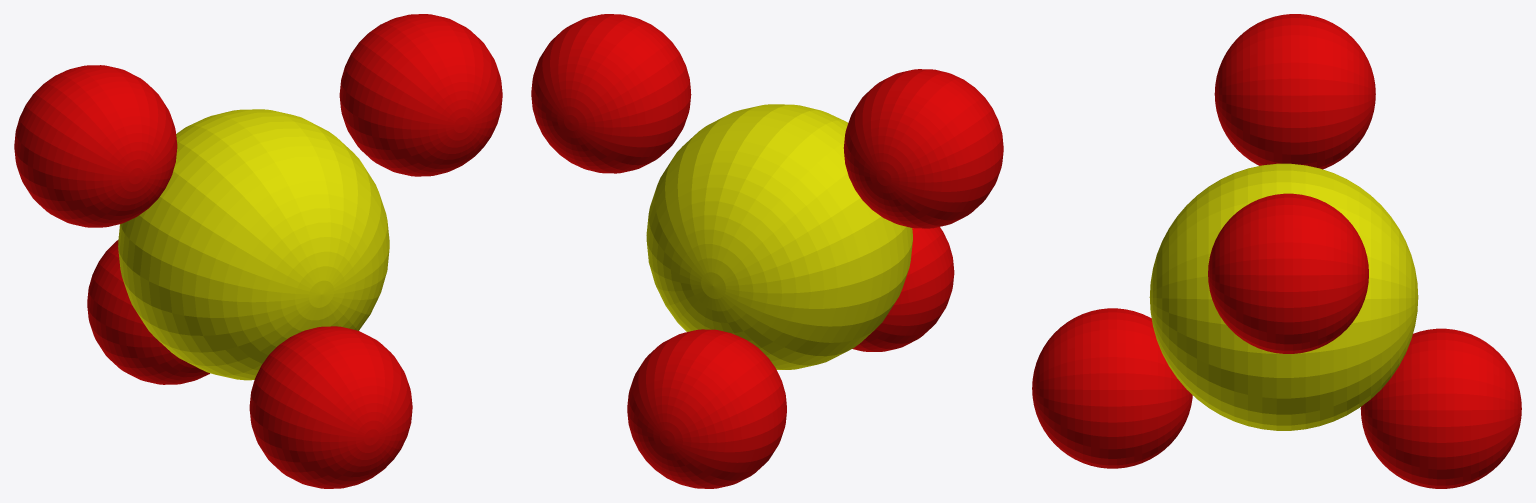
Rendered from Copper Sulfate.glb.
3 views of the same model, side by side, from view 1: azimuth 30°, elevation 25°; view 2: azimuth 150°, elevation 25°; view 3: azimuth 270°, elevation 25° (orthographic).
Parts seen in each view (by area): view 1: world; view 2: world; view 3: world.
Part boxes in pixels (x1,y1,x2,y2): world: (14, 14, 502, 488); world: (531, 14, 1003, 488); world: (1032, 14, 1521, 488).
Size of the model in its own units: 3.93 by 3.2 by 3.65.
